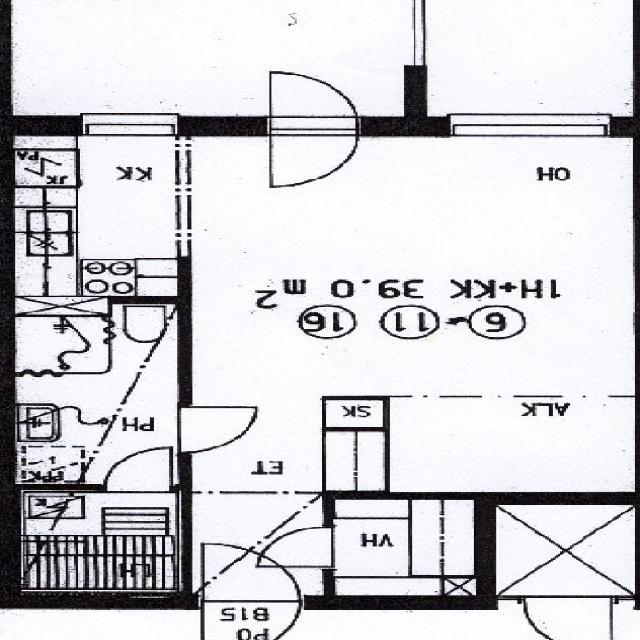door: (204, 537, 300, 609), (272, 116, 358, 188), (272, 64, 358, 136), (204, 595, 300, 640), (178, 407, 270, 453), (103, 443, 173, 492), (256, 527, 334, 566)
